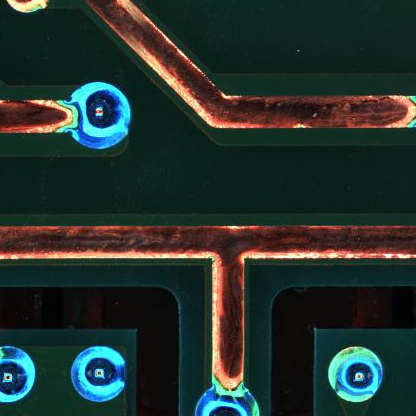spot: (67, 81, 131, 148), (70, 346, 127, 402), (328, 344, 383, 401), (1, 342, 34, 403)
